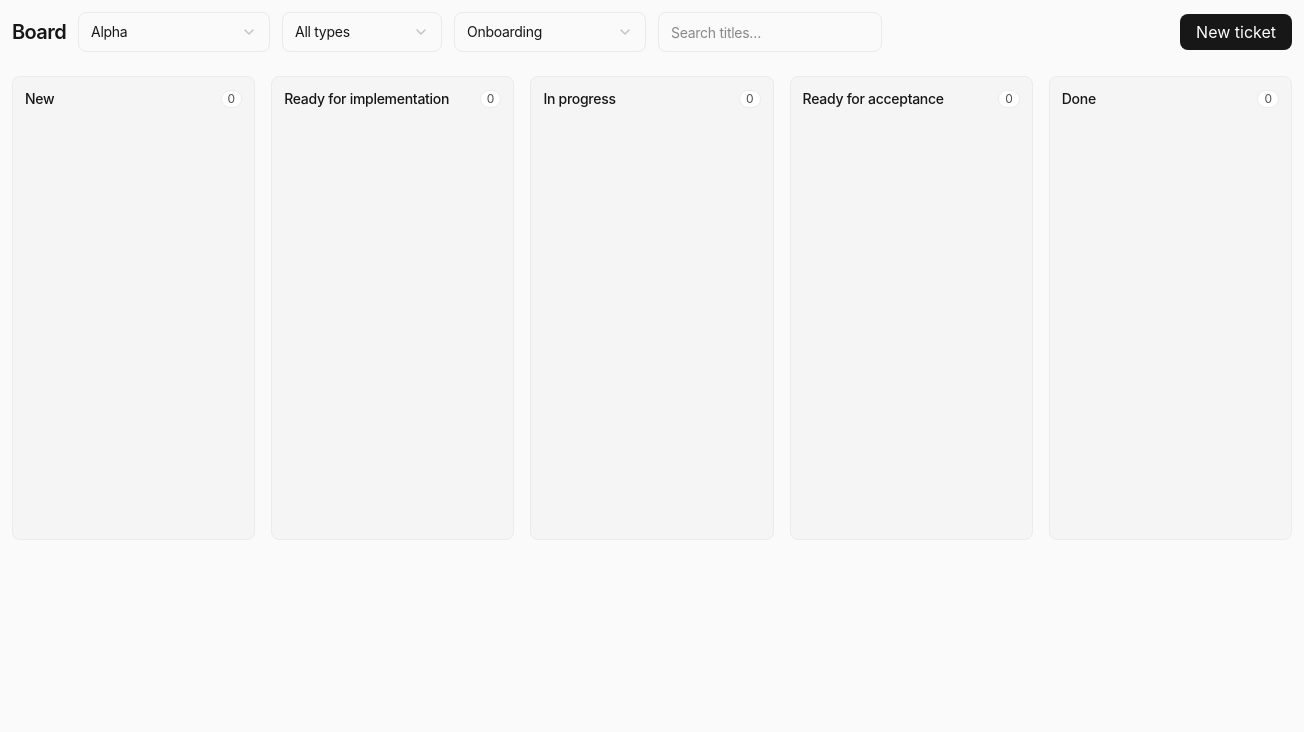
BoardPage › filter_shouldResetEpic_whenTeamChanges
Click the dropdown named "board team" at (174, 32), box x1=78 y1=12 x2=270 y2=52
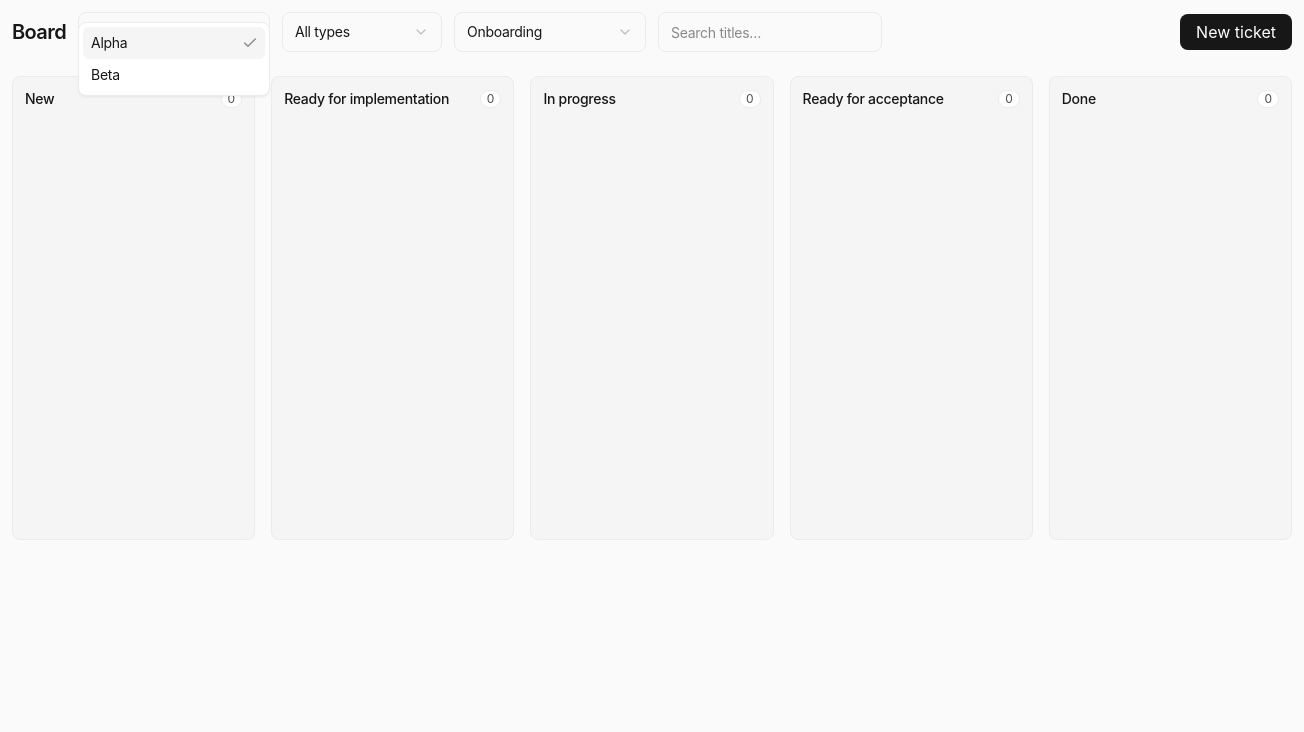
Click the option "Beta" at (105, 74), box x1=91 y1=66 x2=120 y2=83
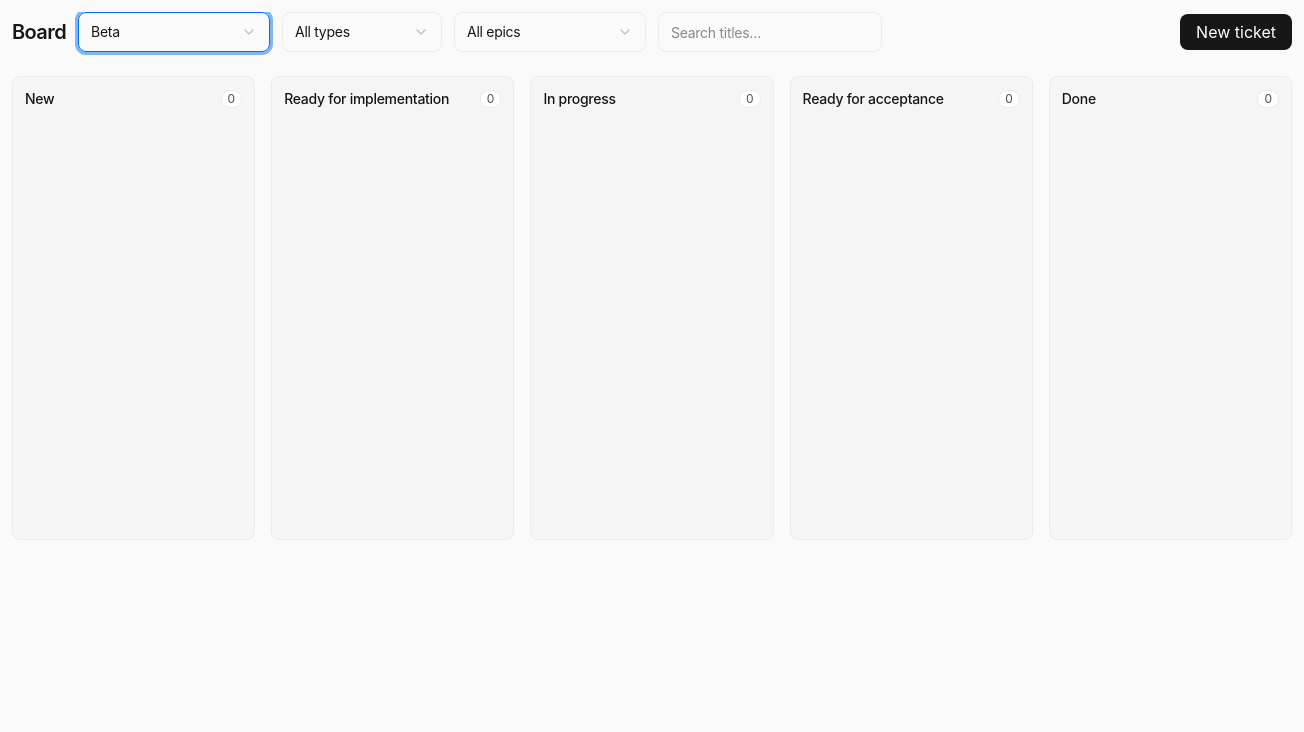
Now the dropdown named "filter by epic" reads "All epics", box x1=454 y1=12 x2=646 y2=52
